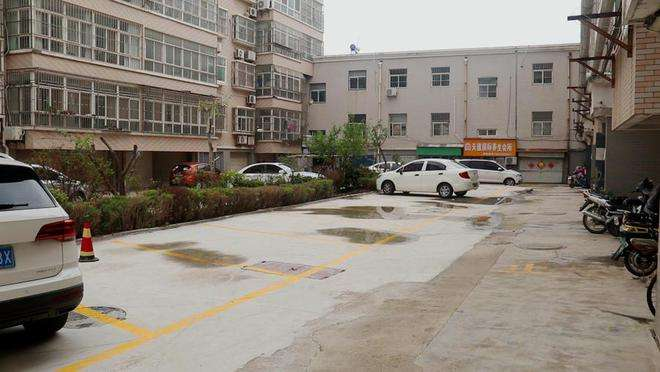slot_nocar: (110, 211, 367, 286), (222, 197, 414, 254)
